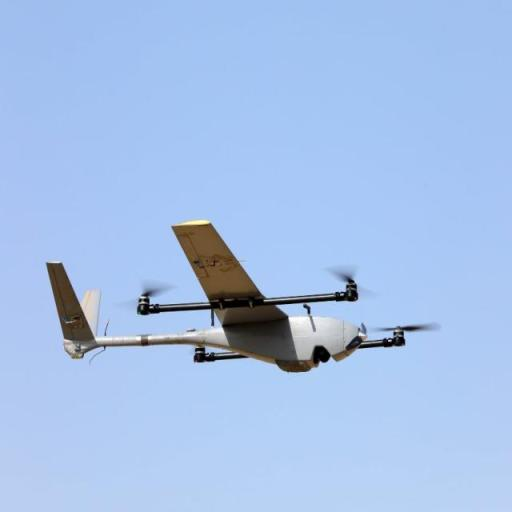uav: (41, 218, 452, 392)
